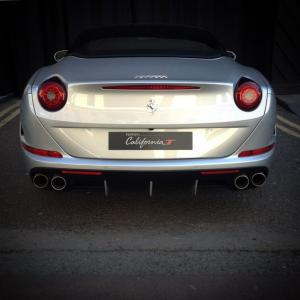Vehicle-registration-plate: (109, 133, 194, 152)
